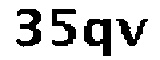3: (12, 7, 43, 51)
5: (48, 3, 78, 53)
q: (81, 15, 115, 60)
v: (116, 14, 151, 53)
